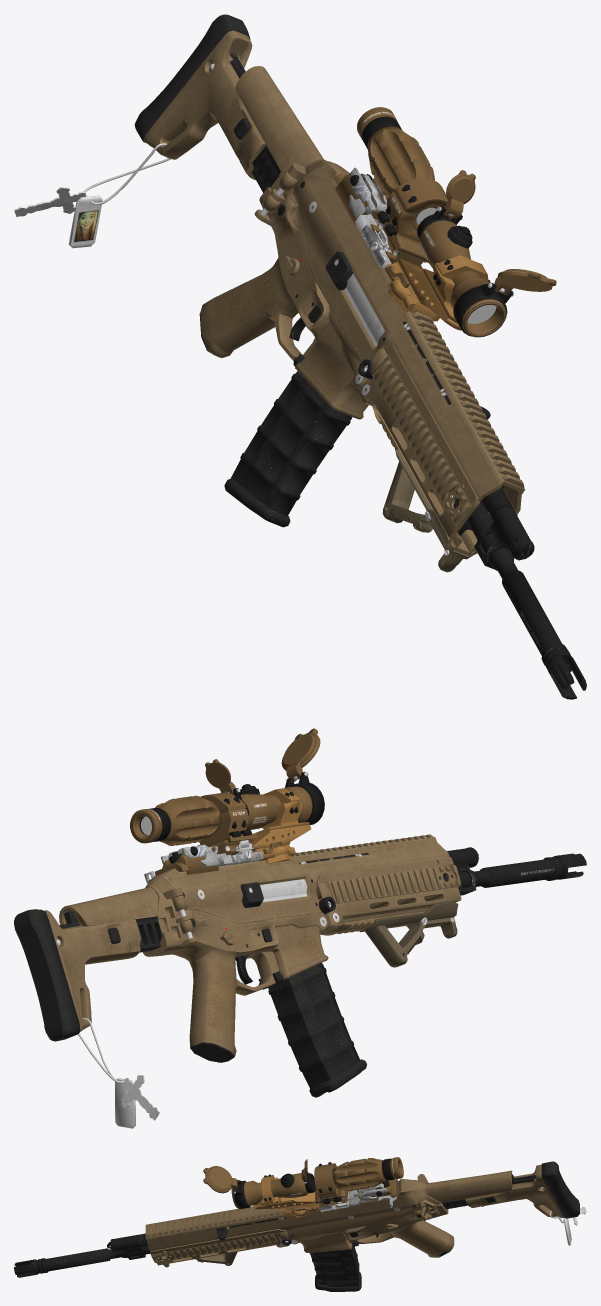
File: gun.glb
3 renders of one model, top to bottom at view 1: azimuth 30°, elevation 25°; view 2: azimuth 150°, elevation 25°; view 3: azimuth 270°, elevation 25°, orthographic. The views are drawn at different scales.
Parts seen in each view (by area): view 1: Object_4, Object_6, Object_5, Object_3, Object_2, Object_7; view 2: Object_4, Object_6, Object_5, Object_3, Object_2, Object_7; view 3: Object_4, Object_6, Object_3, Object_5, Object_2, Object_7.
Part boxes in pixels (left/top/right/bottom): Object_4: left=14, top=30, right=583, bottom=697; Object_6: left=14, top=14, right=572, bottom=669; Object_5: left=63, top=14, right=586, bottom=699; Object_3: left=338, top=107, right=556, bottom=337; Object_2: left=334, top=129, right=552, bottom=330; Object_7: left=382, top=449, right=477, bottom=572; Object_4: left=44, top=837, right=583, bottom=1112; Object_6: left=14, top=834, right=568, bottom=1128; Object_5: left=15, top=835, right=586, bottom=1128; Object_3: left=130, top=728, right=324, bottom=883; Object_2: left=141, top=732, right=320, bottom=875; Object_7: left=359, top=902, right=458, bottom=967; Object_4: left=14, top=1164, right=582, bottom=1277; Object_6: left=33, top=1161, right=586, bottom=1291; Object_3: left=203, top=1157, right=403, bottom=1215; Object_5: left=14, top=1161, right=584, bottom=1287; Object_2: left=205, top=1158, right=397, bottom=1217; Object_7: left=163, top=1252, right=237, bottom=1267.
Size of the model in its own units: 19.84 by 29.78 by 87.7.
3 materials, 3 textured.
